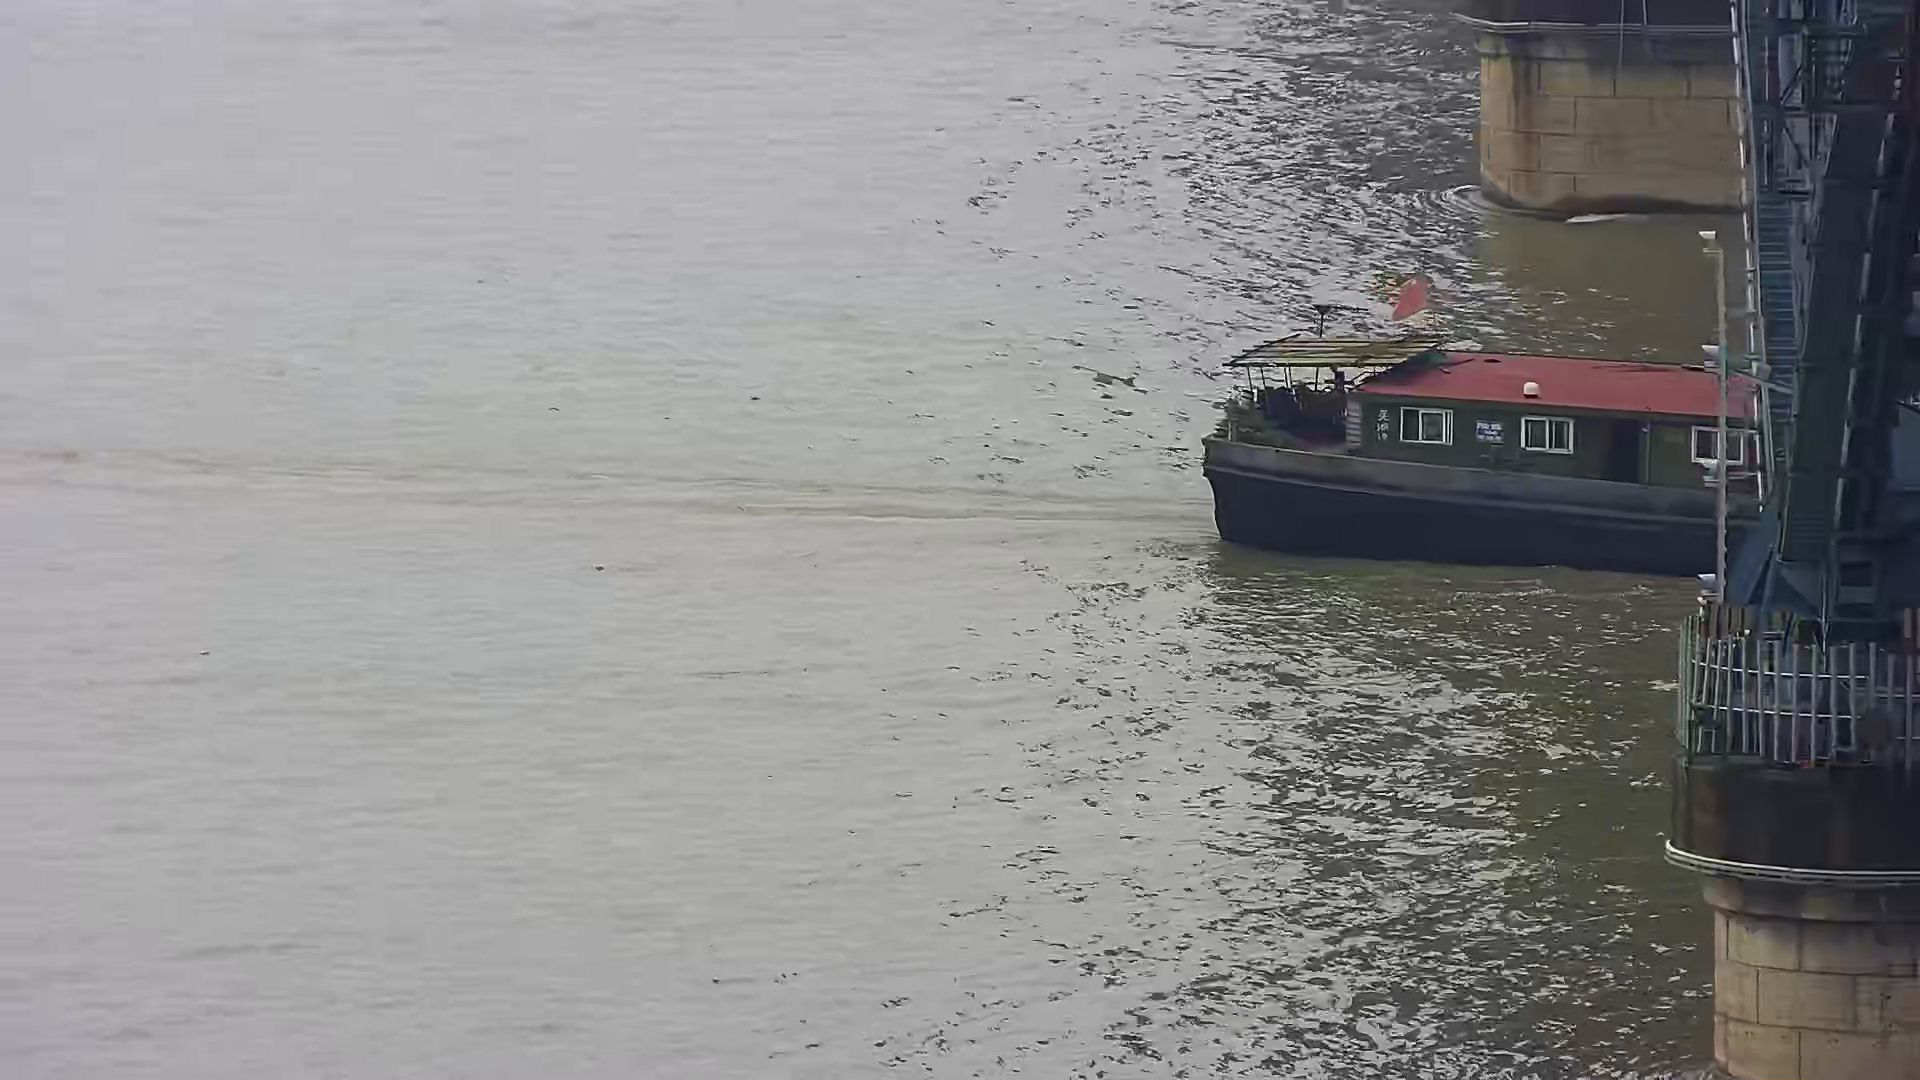bridge: (1451, 1, 1920, 1080)
ship: (1188, 294, 1774, 582)
